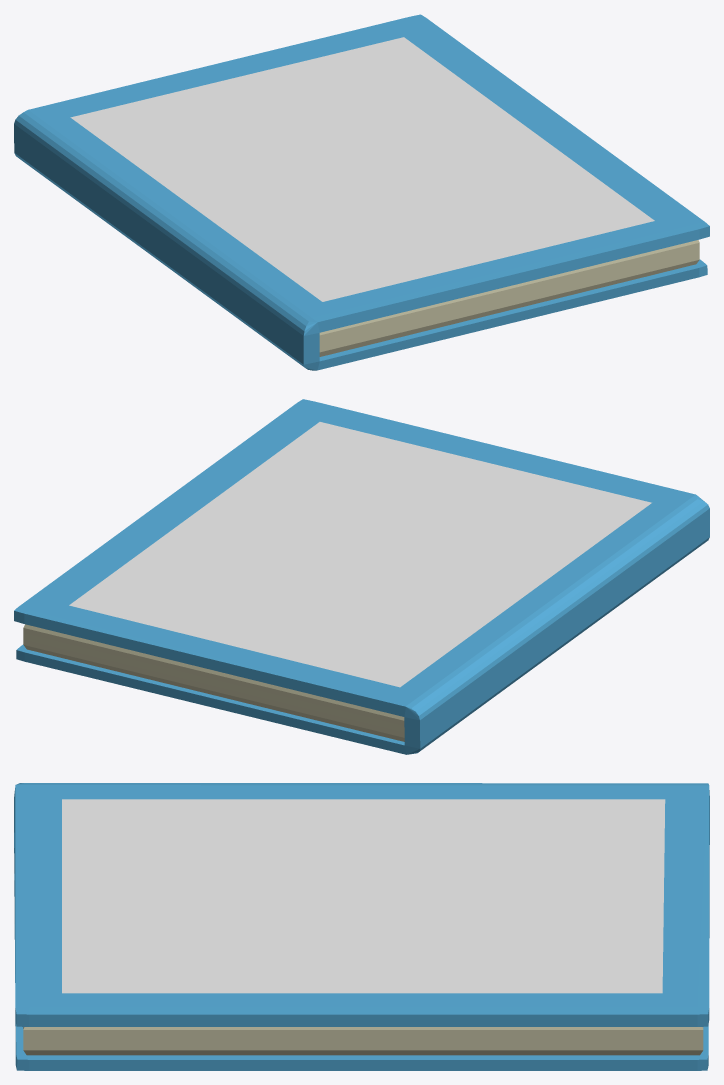
File: LudumDareRecipeBook 1.fbx
3 renders of one model, top to bottom at view 1: azimuth 30°, elevation 25°; view 2: azimuth 150°, elevation 25°; view 3: azimuth 270°, elevation 25°, orthographic. The views are drawn at different scales.
Parts seen in each view (by area): view 1: Recipe Book.002, Recipe Book.001, Recipe Book; view 2: Recipe Book.002, Recipe Book.001, Recipe Book; view 3: Recipe Book.002, Recipe Book.001, Recipe Book.
Boxes of the visible parts, x1=… form: Recipe Book.002: x1=70, y1=37, x2=654, y2=301; Recipe Book.001: x1=14, y1=14, x2=709, y2=370; Recipe Book: x1=319, y1=240, x2=699, y2=356; Recipe Book.002: x1=69, y1=422, x2=651, y2=687; Recipe Book.001: x1=14, y1=399, x2=709, y2=754; Recipe Book: x1=23, y1=624, x2=404, y2=741; Recipe Book.002: x1=62, y1=799, x2=665, y2=993; Recipe Book.001: x1=14, y1=783, x2=709, y2=1070; Recipe Book: x1=23, y1=1027, x2=703, y2=1055.
Bounding box in the file's own units: 29.13 × 3.3 × 36.05.
